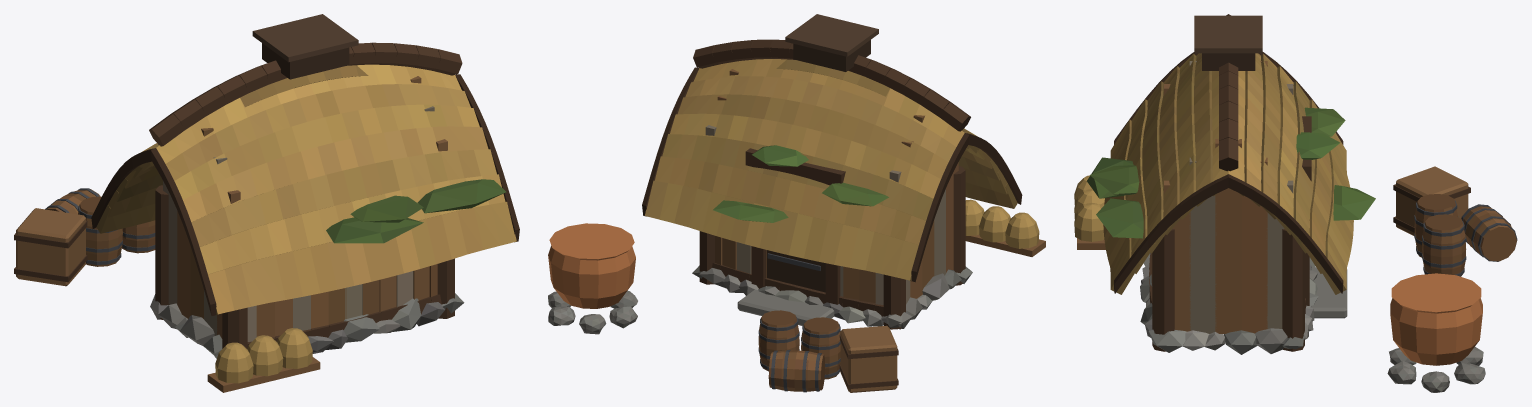
File: Brewhouse.glb
3 renders of one model, left to right at view 1: azimuth 30°, elevation 25°; view 2: azimuth 150°, elevation 25°; view 3: azimuth 270°, elevation 25°, orthographic. The views are drawn at different scales.
Visible parts, largest first — view 1: Mat_Thatch_a9874c, Mat_Wood_61442b, Mat_Wood_84643d, Mat_Wood_432f20, Mat_Stone_6e6c66, Mat_Thatch_856a3a, Mat_Leaves_4a6130, Mat_Leaves_44582c, Mat_Metal_424448, Mat_Stone_7a7871; view 2: Mat_Thatch_a9874c, Mat_Wood_61442b, Mat_Wood_84643d, Mat_Wood_432f20, Mat_Stone_7a7871, Mat_Stone_6e6c66, Mat_Thatch_856a3a, Mat_Leaves_516b34, Mat_Metal_424448, Mat_Leaves_4a6130; view 3: Mat_Thatch_a9874c, Mat_Wood_84643d, Mat_Wood_61442b, Mat_Wood_432f20, Mat_Stone_7a7871, Mat_Stone_6e6c66, Mat_Leaves_4a6130, Mat_Thatch_856a3a, Mat_Leaves_516b34, Mat_Metal_424448, Mat_Leaves_44582c.
Part boxes in pixels (left/top/right/bottom): Mat_Thatch_a9874c: left=156, top=64, right=516, bottom=383; Mat_Wood_61442b: left=14, top=14, right=515, bottom=392; Mat_Wood_84643d: left=16, top=90, right=447, bottom=341; Mat_Wood_432f20: left=91, top=43, right=519, bottom=348; Mat_Stone_6e6c66: left=151, top=293, right=464, bottom=358; Mat_Thatch_856a3a: left=100, top=65, right=368, bottom=314; Mat_Leaves_4a6130: left=334, top=179, right=506, bottom=243; Mat_Leaves_44582c: left=326, top=192, right=505, bottom=242; Mat_Metal_424448: left=45, top=188, right=155, bottom=264; Mat_Stone_7a7871: left=150, top=294, right=453, bottom=340; Mat_Thatch_a9874c: left=644, top=59, right=1039, bottom=280; Mat_Wood_61442b: left=646, top=14, right=1045, bottom=391; Mat_Wood_84643d: left=548, top=96, right=1017, bottom=392; Mat_Wood_432f20: left=642, top=40, right=1022, bottom=329; Mat_Stone_7a7871: left=548, top=268, right=965, bottom=334; Mat_Stone_6e6c66: left=548, top=265, right=972, bottom=333; Mat_Thatch_856a3a: left=785, top=59, right=1013, bottom=208; Mat_Leaves_516b34: left=713, top=145, right=870, bottom=219; Mat_Metal_424448: left=758, top=253, right=840, bottom=392; Mat_Leaves_4a6130: left=713, top=145, right=888, bottom=222; Mat_Thatch_a9874c: left=1074, top=53, right=1353, bottom=289; Mat_Wood_84643d: left=1111, top=56, right=1507, bottom=365; Mat_Wood_61442b: left=1077, top=14, right=1516, bottom=333; Mat_Wood_432f20: left=1114, top=52, right=1343, bottom=351; Mat_Stone_7a7871: left=1140, top=254, right=1485, bottom=392; Mat_Stone_6e6c66: left=1140, top=253, right=1482, bottom=392; Mat_Leaves_4a6130: left=1088, top=107, right=1373, bottom=238; Mat_Thatch_856a3a: left=1124, top=54, right=1333, bottom=273; Mat_Leaves_516b34: left=1296, top=112, right=1375, bottom=219; Mat_Metal_424448: left=1414, top=200, right=1517, bottom=276; Mat_Leaves_44582c: left=1087, top=157, right=1341, bottom=205.
Size of the model in its own units: 14.65 by 10.04 by 14.92.
Materials: 1 (1 with a texture image).
